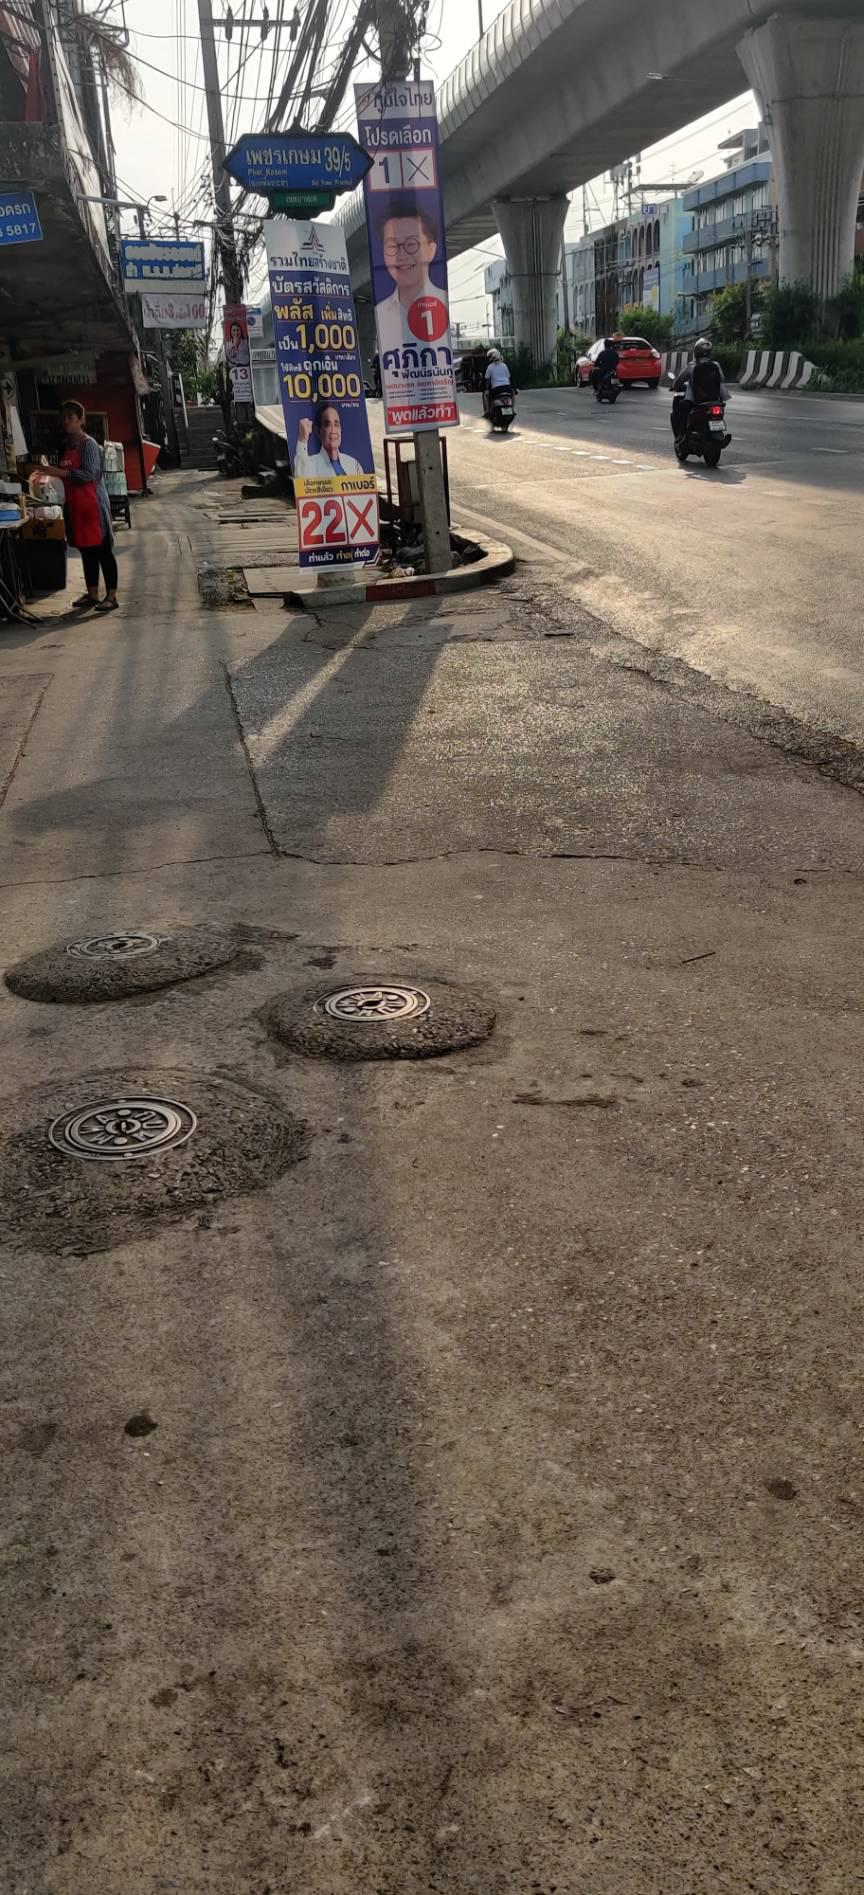Banner: (256, 218, 385, 566), (356, 76, 450, 446)
